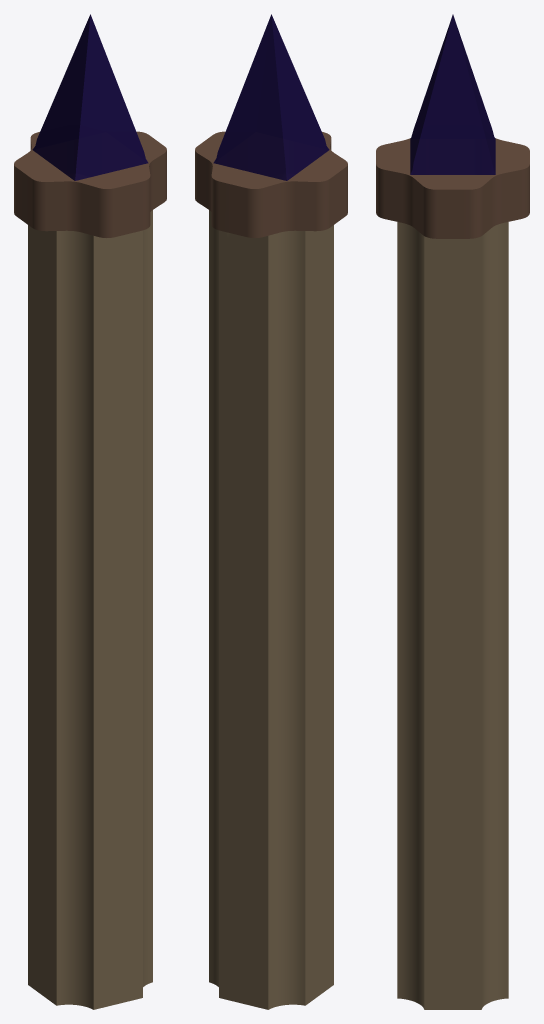
The picture shows the model from 3 angles, left to right: view 1: azimuth 30°, elevation 25°; view 2: azimuth 150°, elevation 25°; view 3: azimuth 270°, elevation 25°; orthographic projection.
Visible parts, largest first — view 1: BG1; view 2: BG1; view 3: BG1.
Part boxes in pixels (x1,y1,x2,y2): BG1: [14, 14, 166, 1009]; BG1: [195, 14, 347, 1009]; BG1: [376, 14, 529, 1009].
Size of the model in its own units: 12.41 by 86.61 by 12.41.
